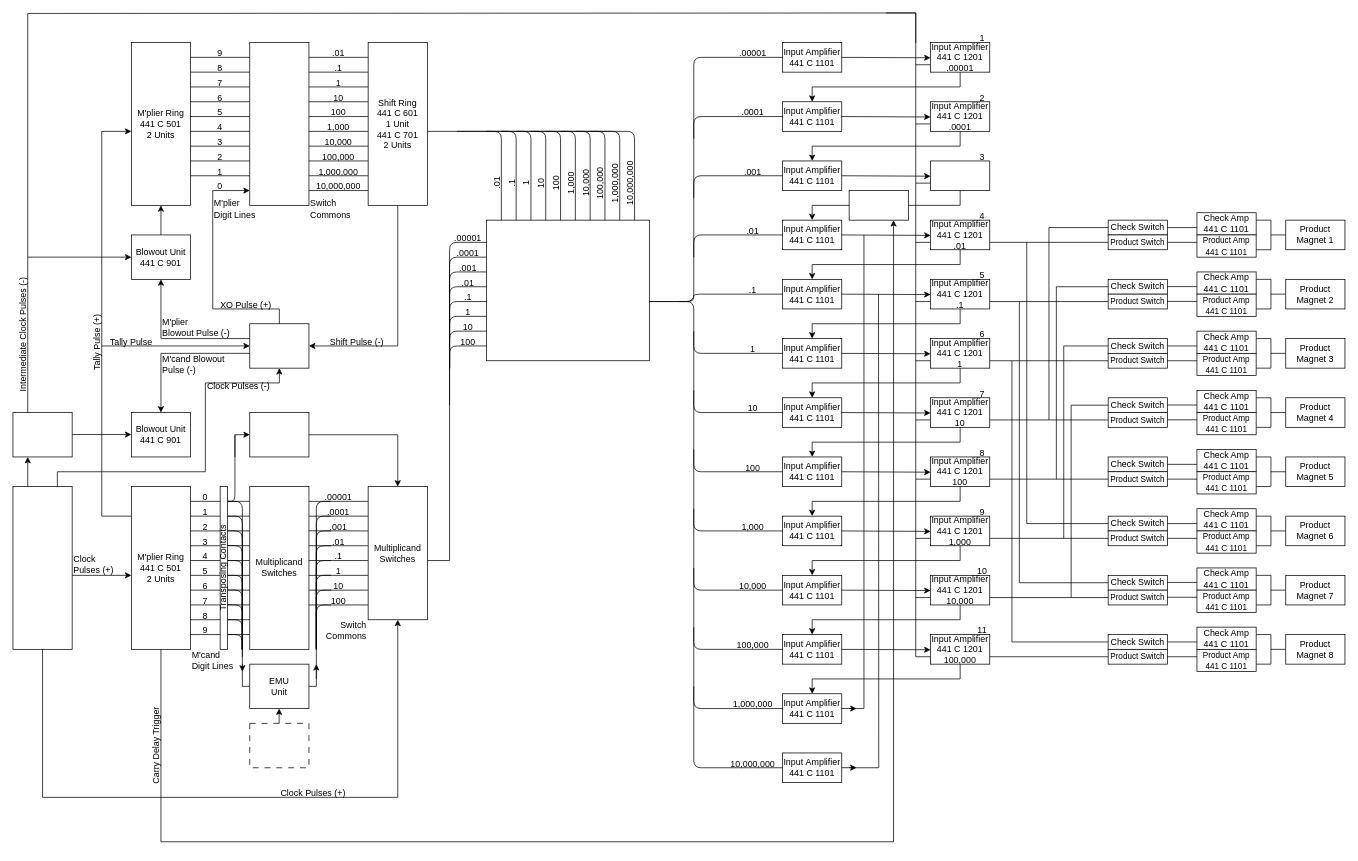
The diagram is 1358 pixels wide and 861 high, and some of its shapes have lost their labels. Each missing label, with the centre of its shape:
Blowout Control Unit 441 C 801: the point at 279,345
Card Reader (C385): the point at 279,745
Carry Storage 441 C 1301: the point at 878,205
Fugitive I Amplifier 441 C 1301: the point at 279,434
IC Pulse Amplifier 441 C 601: the point at 42,434
Input Amplifier 441 C 1201 .001: the point at 960,175
Master Pulse Generator 441 C 201: the point at 42,567
Multiplier Switches: the point at 279,123
Shift Matrix 441 C 1001 5 Units 441 C 1301: the point at 567,290
